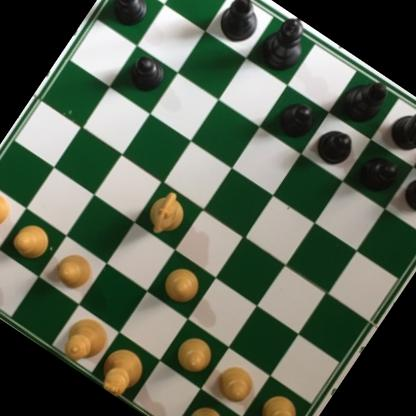black-bishop: (333, 64, 395, 130), (213, 0, 274, 48)
black-king: (251, 9, 315, 77)
black-knight: (383, 96, 416, 160)
black-pawn: (350, 147, 403, 200), (270, 94, 320, 144), (309, 121, 359, 171), (123, 51, 171, 99), (101, 0, 156, 34), (399, 168, 416, 219)
black-rook: (414, 117, 416, 191)
white-king: (90, 338, 153, 403)
white-knight: (137, 183, 196, 245), (175, 398, 234, 416)
white-pawn: (47, 244, 101, 297), (156, 261, 208, 312), (209, 358, 260, 409), (6, 216, 56, 267), (169, 330, 219, 379), (250, 387, 304, 416), (0, 182, 17, 232)
white-queen: (53, 307, 115, 371)
